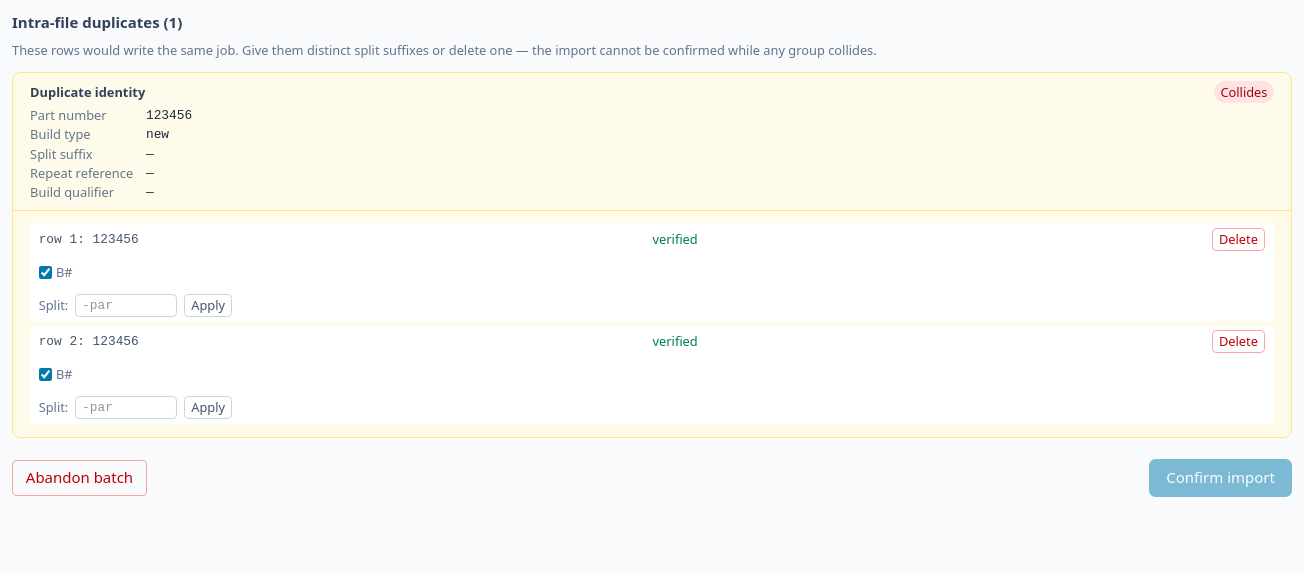
Test: BatchReviewPanel — Patch 06 mutation failure handling › a 5xx from a mutation refetches GET /review
The width and height of the screenshot is (1304, 572).
Click the button "Delete" in the row of "row 1: 123456". click: (1238, 240)
box: [1212,228,1265,251]
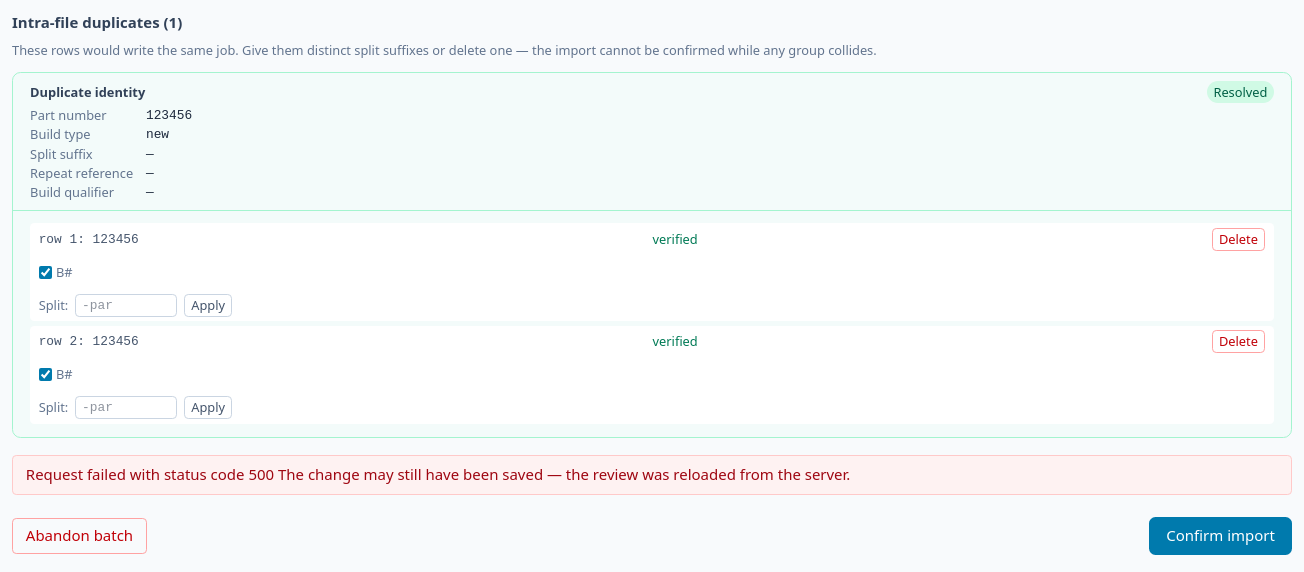
Check: the text with test id "duplicate-group-state" reads "Resolved", box [1213,83,1268,101]
Check: the message shows "may still have been saved", box [26,464,850,484]
